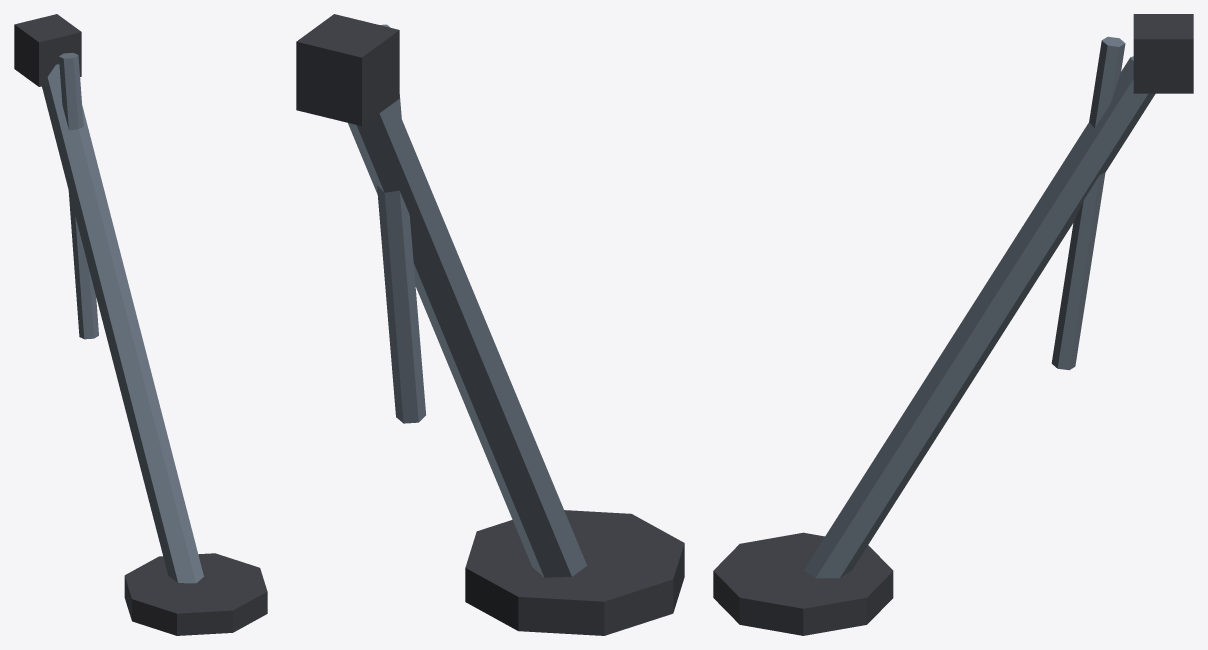
The model's file is Rec_LandingLeg.fbx.
3 views of the same model, side by side, from view 1: azimuth 30°, elevation 25°; view 2: azimuth 150°, elevation 25°; view 3: azimuth 270°, elevation 25° (orthographic). The views are drawn at different scales.
Parts seen in each view (by area): view 1: Rec_LandingLeg; view 2: Rec_LandingLeg; view 3: Rec_LandingLeg.
Boxes of the visible parts, x1,y1,x2,y2 form: Rec_LandingLeg: (14,14,267,635); Rec_LandingLeg: (296,14,684,635); Rec_LandingLeg: (713,14,1193,635).
Size of the model in its own units: 0.6 by 2.1 by 1.6.
1 material, 1 textured.
